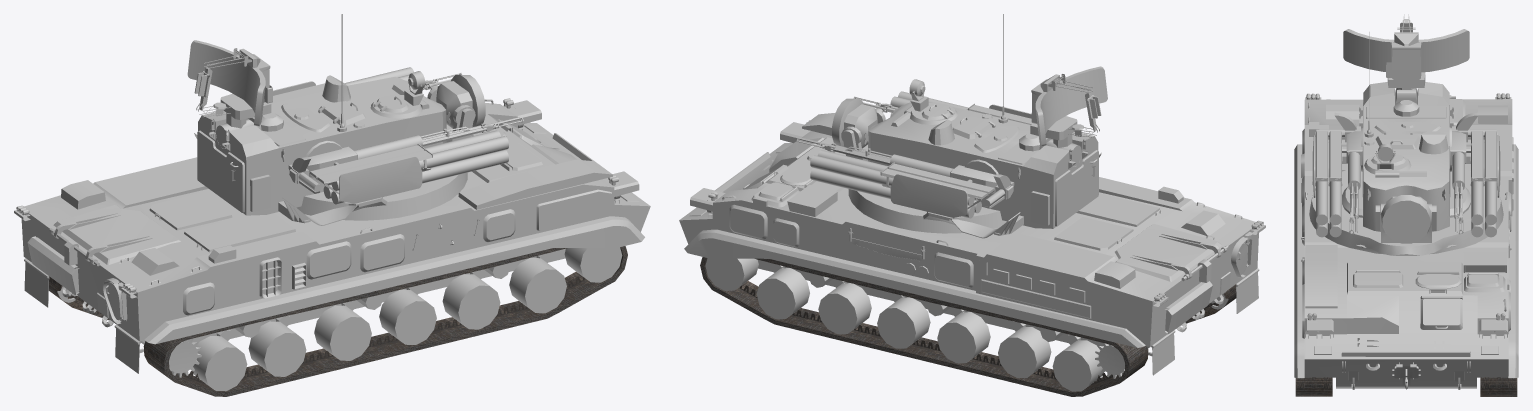
Rendered from Tunguska.fbx.
3 renders of one model, left to right at view 1: azimuth 30°, elevation 25°; view 2: azimuth 150°, elevation 25°; view 3: azimuth 270°, elevation 25°, orthographic. The views are drawn at different scales.
Parts seen in each view (by area): view 1: Chassis, Tourelle_01, Chenille_Droite_01, Carousel_Radar, Axe_Canon_01, Canon_02, Roue_D3, Roue_D4, Roue_D5, Roue_D2, Roue_D6, Roue_D7 (+4 smaller); view 2: Chassis, Tourelle_01, Chenille_Gauche_01, Carousel_Radar, Axe_Canon_01, Canon_02, Roue_G3, Roue_G5, Roue_G4, Roue_G2, Roue_G6, Roue_G7 (+4 smaller); view 3: Chassis, Tourelle_01, Carousel_Radar, Axe_Canon_02, Canon_02, Axe_Canon_01, Canon_01, Chenille_Droite_01, Chenille_Gauche_01.
Part boxes in pixels (box(x1,y1,x2,y2)): Chassis: box(14, 51, 650, 373); Tourelle_01: box(194, 14, 485, 225); Chenille_Droite_01: box(143, 246, 627, 396); Carousel_Radar: box(187, 40, 272, 128); Axe_Canon_01: box(273, 81, 422, 203); Canon_02: box(323, 67, 508, 204); Roue_D3: box(442, 274, 500, 329); Roue_D4: box(379, 289, 436, 344); Roue_D5: box(314, 305, 371, 360); Roue_D2: box(509, 258, 566, 313); Roue_D6: box(248, 321, 306, 376); Roue_D7: box(191, 336, 247, 391); Chassis: box(679, 77, 1265, 375); Tourelle_01: box(832, 14, 1101, 238); Chenille_Gauche_01: box(700, 257, 1148, 396); Carousel_Radar: box(1030, 66, 1107, 148); Axe_Canon_01: box(890, 104, 1031, 217); Canon_02: box(810, 91, 981, 218); Roue_G3: box(818, 283, 871, 334); Roue_G5: box(937, 312, 990, 363); Roue_G4: box(877, 297, 930, 348); Roue_G2: box(756, 268, 809, 319); Roue_G6: box(998, 327, 1051, 378); Roue_G7: box(1052, 340, 1104, 391); Chassis: box(1294, 29, 1518, 389); Tourelle_01: box(1309, 32, 1503, 255); Carousel_Radar: box(1343, 14, 1469, 89); Axe_Canon_02: box(1315, 131, 1497, 186); Canon_02: box(1316, 181, 1496, 237); Axe_Canon_01: box(1312, 112, 1500, 197); Canon_01: box(1348, 152, 1464, 234); Chenille_Droite_01: box(1295, 377, 1332, 396); Chenille_Gauche_01: box(1480, 377, 1517, 396).
Bounding box in the file's own units: 8.03 × 3.3 × 4.58.
